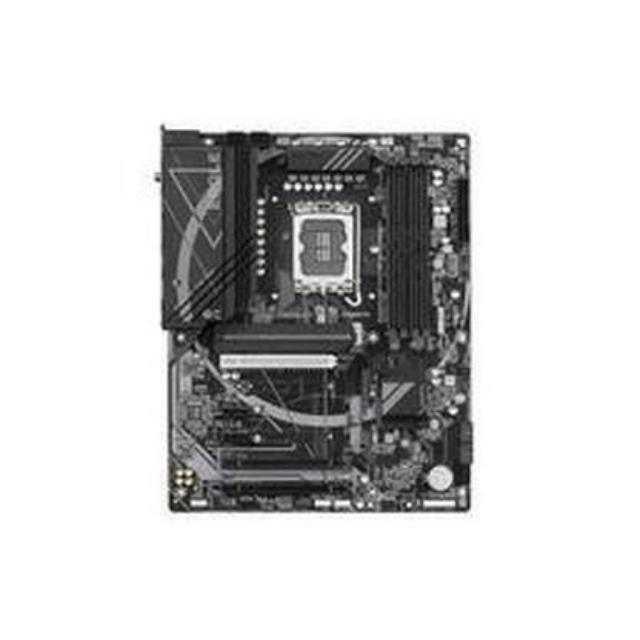Mainboard: (140, 119, 480, 536)
